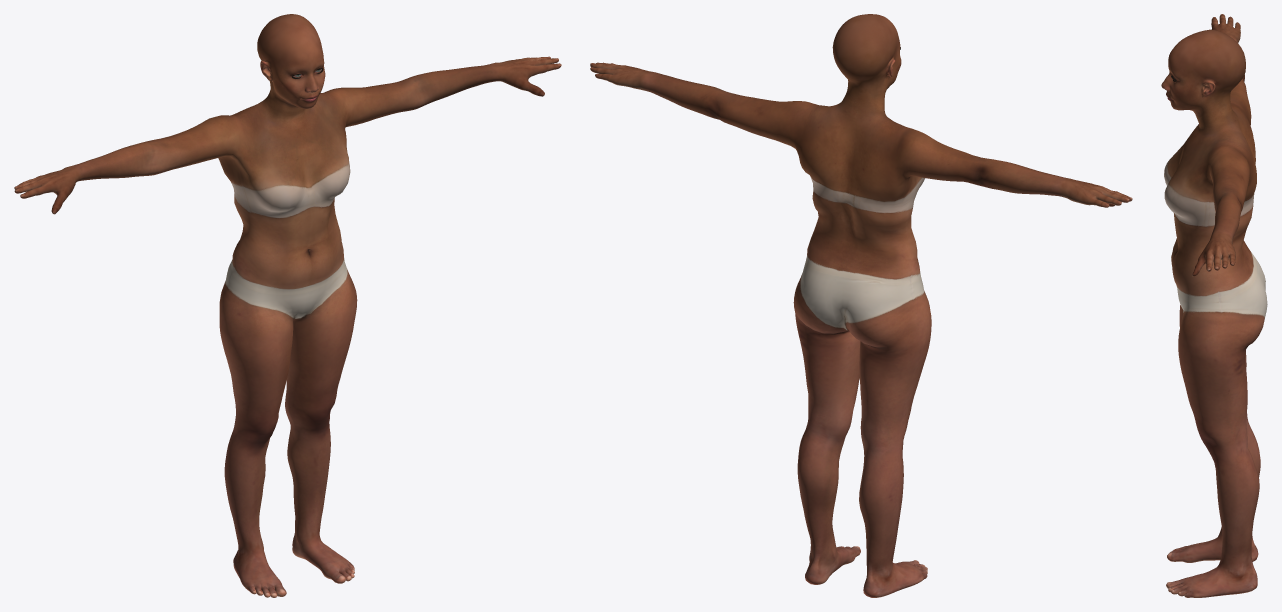
Rendered from BlackFem1.obj.
3 renders of one model, left to right at view 1: azimuth 30°, elevation 25°; view 2: azimuth 150°, elevation 25°; view 3: azimuth 270°, elevation 25°, orthographic. The views are drawn at different scales.
Parts seen in each view (by area): view 1: Body; view 2: Body; view 3: Body.
Boxes of the visible parts, x1=… form: Body: x1=14, y1=14, x2=561, y2=597; Body: x1=590, y1=14, x2=1132, y2=597; Body: x1=1161, y1=14, x2=1267, y2=597.
Size of the model in its own units: 169 by 167 by 29.59.
Materials: 1 (1 with a texture image).
